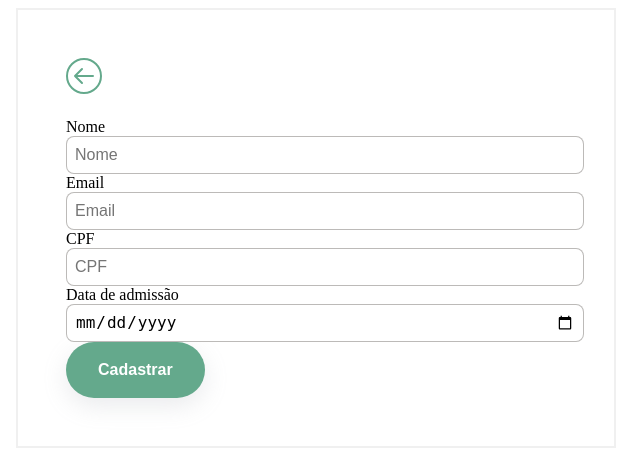
Scenario: NewUser › should be able to register
Type "Joao Jose" into the field labelled "Nome".
click(325, 155); type("Joao Jose")  # box [66,136,584,174]
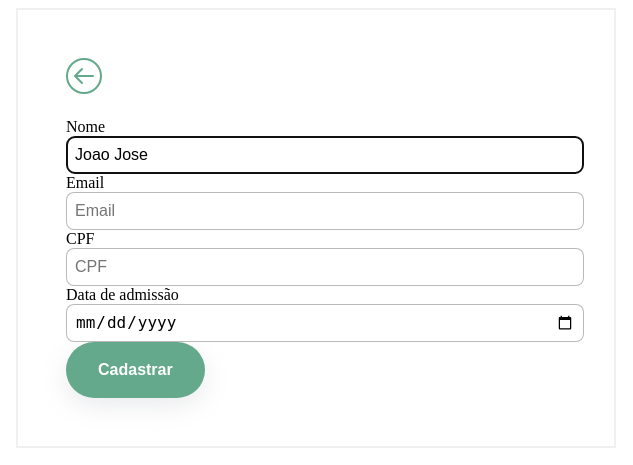
Type "joaojose@email.com" into the field labelled "Email".
click(325, 211); type("joaojose@email.com")  # box [66,192,584,230]
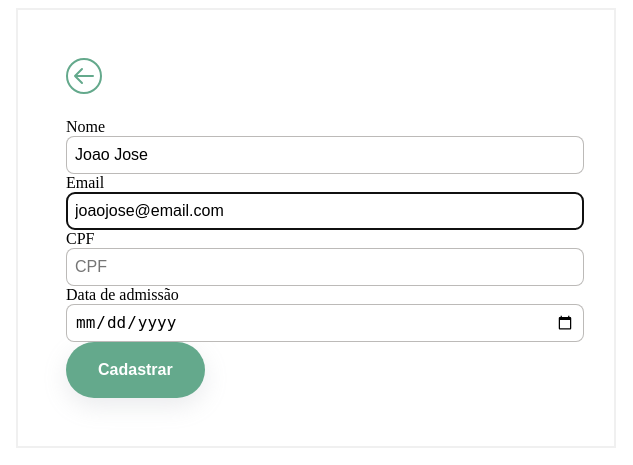
Type "14445124044" into the field labelled "CPF".
click(325, 267); type("14445124044")  # box [66,248,584,286]
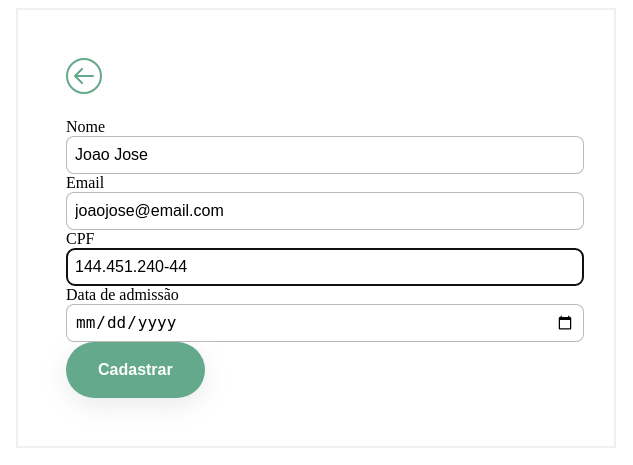
Type "1996-05-09" into the date field labelled "Data de admissão".
click(325, 323); type("1996-05-09")  # box [66,304,584,342]
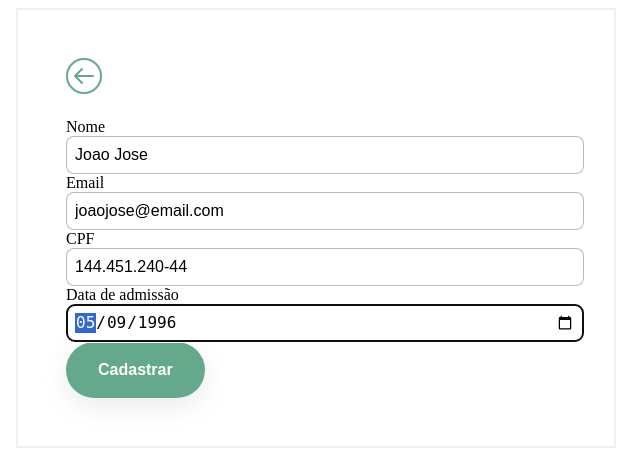
Click the button "Cadastrar".
click(135, 370)  # box [66,342,205,398]
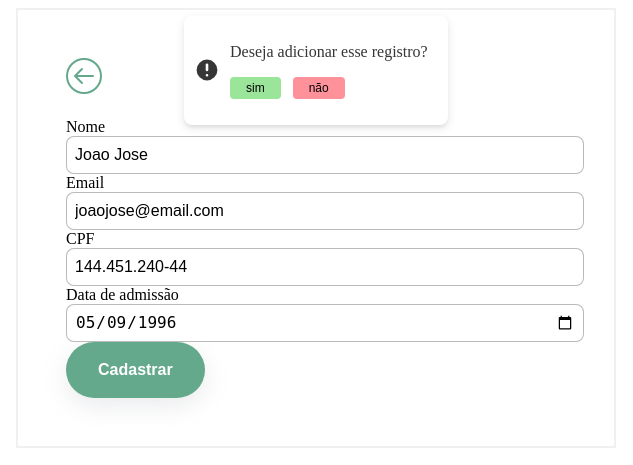
Click the button "sim".
click(256, 88)  # box [230,77,281,99]
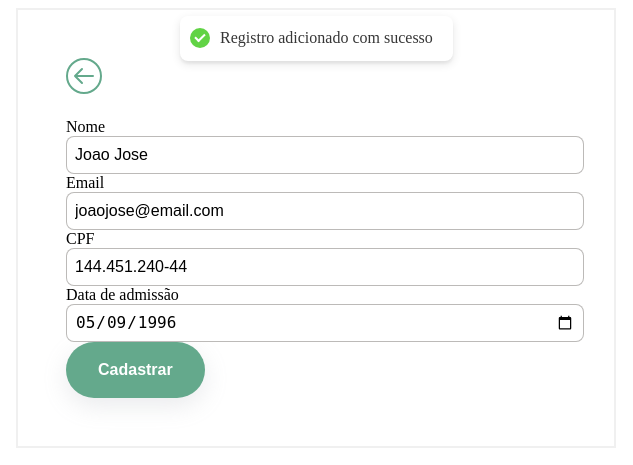
expect the text "Registro adicionado com sucesso" is shown: met, box [220,28,432,49]
